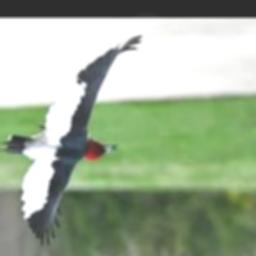Woodpecker: (0, 35, 141, 246)
